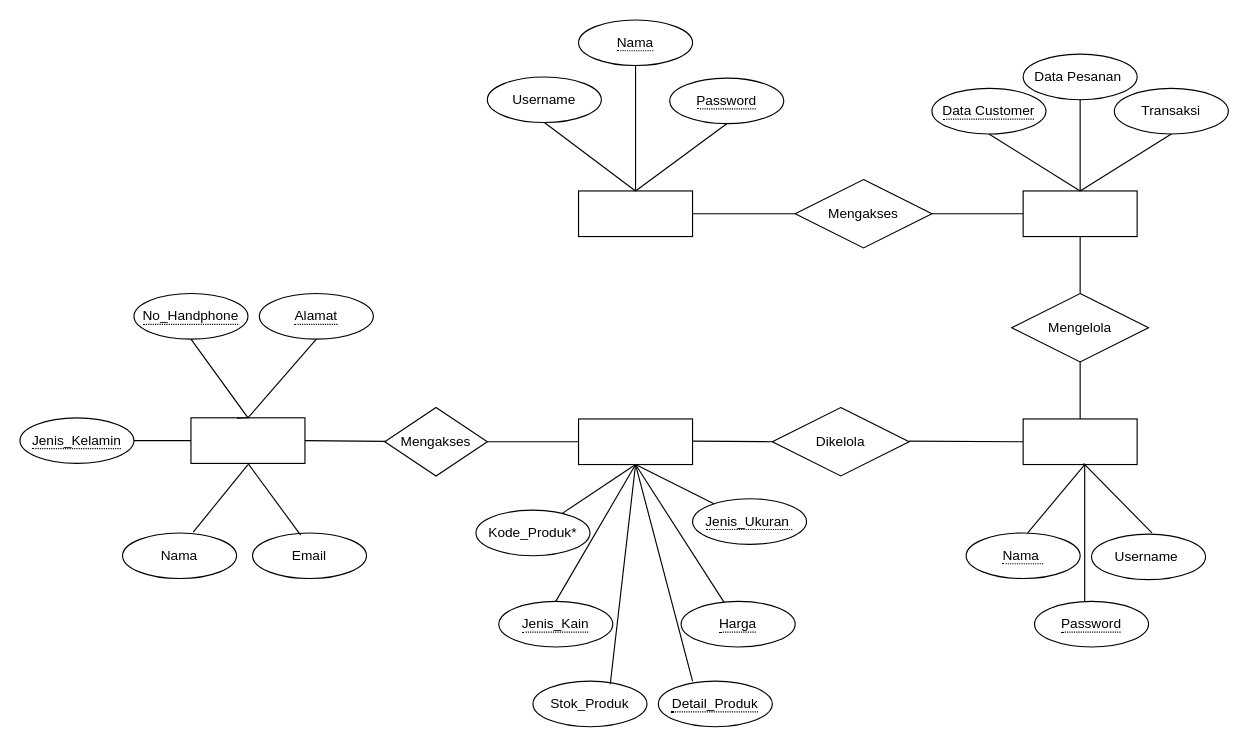
Image size: 1248x747. Some labels were removed from this diagram. Each missing label, with the centre of its shape:
Admin: (x=1079, y=441)
Customer: (x=247, y=440)
Laporan: (x=1079, y=213)
Penjual: (x=635, y=213)
Produk: (x=635, y=441)
